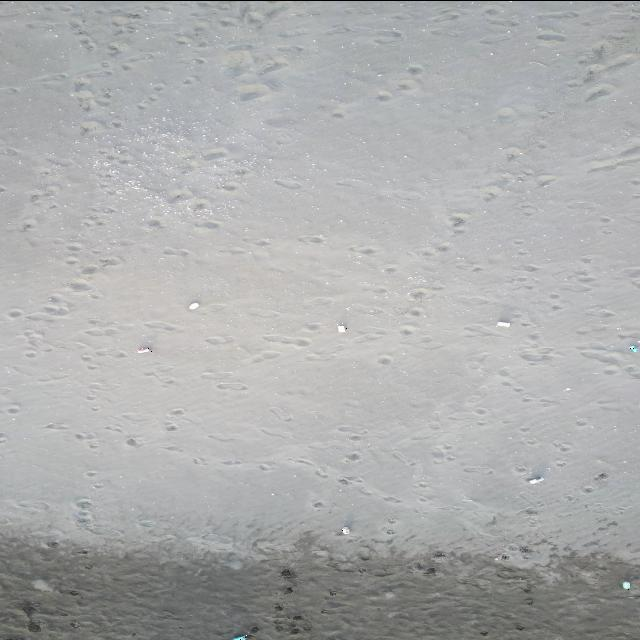Garbage: (528, 475, 543, 484), (187, 300, 199, 310), (496, 320, 510, 327), (232, 633, 247, 639), (136, 346, 151, 352), (620, 580, 630, 588), (628, 344, 636, 352), (340, 526, 350, 532), (337, 324, 344, 332)
